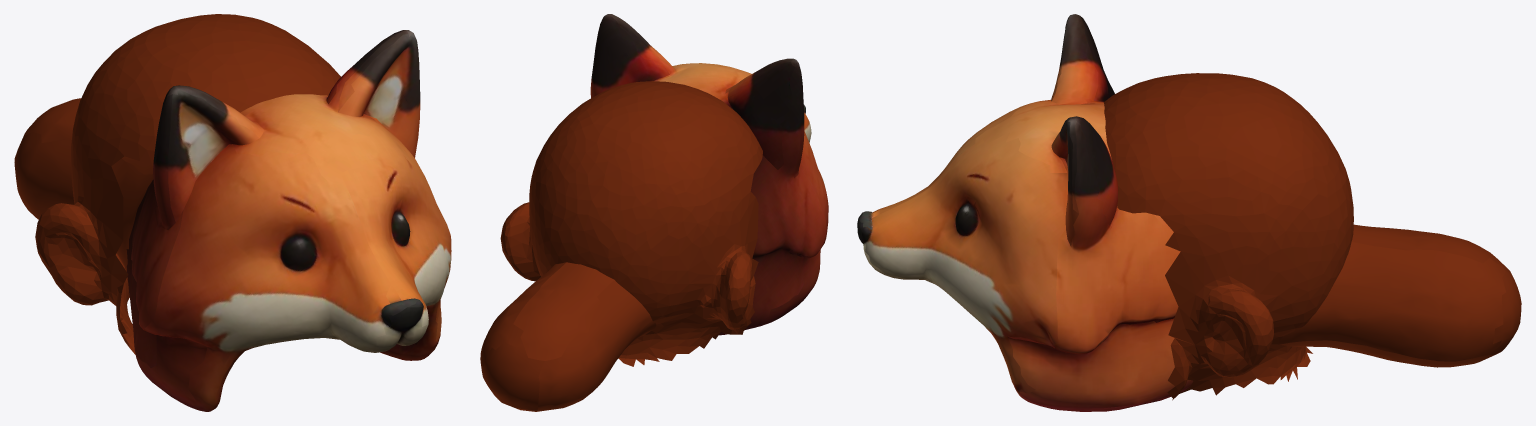
The model's file is red-fox.glb.
3 views of the same model, side by side, from view 1: azimuth 30°, elevation 25°; view 2: azimuth 150°, elevation 25°; view 3: azimuth 270°, elevation 25° (orthographic). The views are drawn at different scales.
Visible parts, largest first — view 1: geometry_0, HoodAnatomicalLining; view 2: HoodAnatomicalLining, geometry_0; view 3: geometry_0, HoodAnatomicalLining.
Boxes of the visible parts, bbox=[...] form: geometry_0: bbox=[14, 30, 451, 411]; HoodAnatomicalLining: bbox=[35, 14, 340, 354]; HoodAnatomicalLining: bbox=[500, 81, 762, 366]; geometry_0: bbox=[480, 14, 828, 411]; geometry_0: bbox=[857, 14, 1521, 411]; HoodAnatomicalLining: bbox=[1103, 73, 1353, 400].
Bounding box in the file's own units: 0.4602 × 0.4573 × 0.9202.
2 materials, 1 textured.
